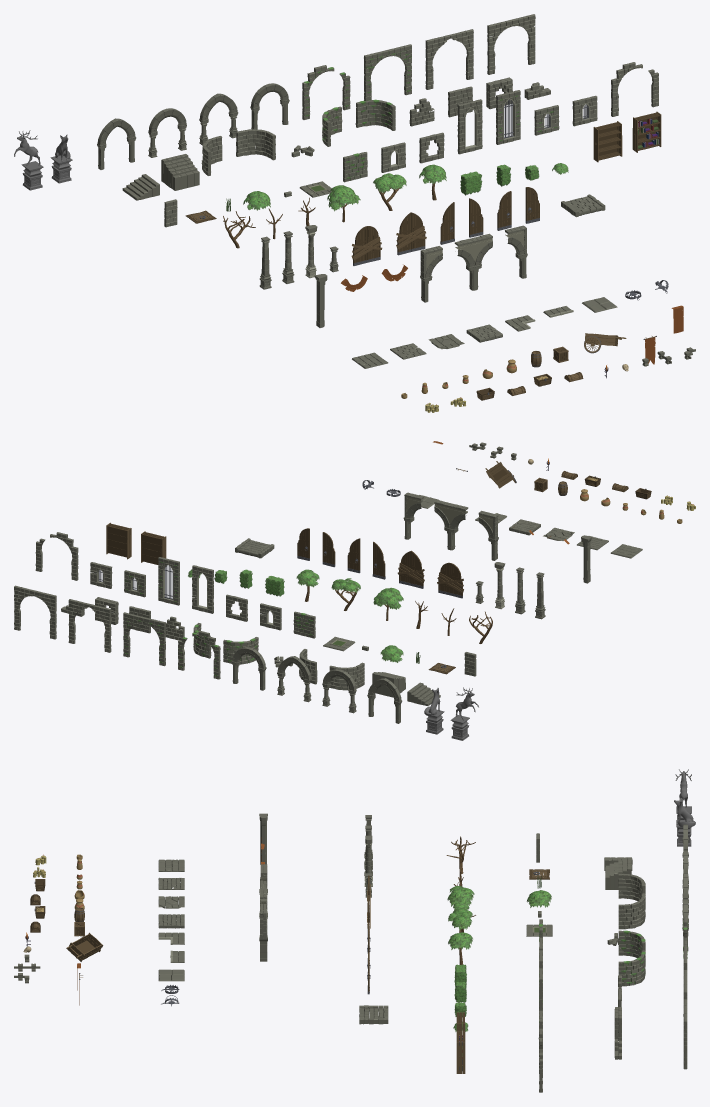
Rendered from ruins.glb.
3 views of the same model, one above another, from view 1: azimuth 30°, elevation 25°; view 2: azimuth 150°, elevation 25°; view 3: azimuth 270°, elevation 25° (orthographic). The views are drawn at different scales.
Visible parts, largest first — view 1: Window_Bars_Double_Overgrown, Wall_ArchRound, Wall_ArchGothic, Stairs_2, Wall_ArchRound_Overgrown, Support_Center, Curve_2_Overgrown, Curve_2, Bookcase_Empty, Bookcase_Full, Window_Open_Double, Doors_GothicArch_Covered (+18 smaller); view 2: Window_Bars_Double_Overgrown, Wall_ArchRound_Overgrown, Wall_ArchRound, Wall_ArchGothic, Support_Center, Bookcase_Full, Doors_GothicArch_Covered, Window_Open_Double, Doors_RoundArch_Covered, Bookcase_Empty, Statue_Stag, Wall_ArchRound_Overgrown_Broken (+18 smaller); view 3: Curve_2, Curve_2_Overgrown, Curve_1_Overgrown, Curve_1, Cart, BridgeSection, Stairs_2, Statue_Fox.
Boxes of the visible parts, x1,y1,x2,y2 form: Window_Bars_Double_Overgrown: (496,90,520,144); Wall_ArchRound: (487,14,535,74); Wall_ArchGothic: (425,29,473,89); Stairs_2: (161,154,199,190); Wall_ArchRound_Overgrown: (364,44,411,100); Support_Center: (454,233,492,290); Curve_2_Overgrown: (355,99,395,130); Curve_2: (236,129,275,160); Bookcase_Empty: (593,121,622,162); Bookcase_Full: (632,111,661,152); Window_Open_Double: (457,99,482,154); Doors_GothicArch_Covered: (396,212,426,255); Window_Bars_Double_Overgrown: (158,557,179,605); Wall_ArchRound_Overgrown: (123,612,165,666); Wall_ArchRound: (14,585,56,639); Wall_ArchGothic: (68,599,111,652); Support_Center: (434,500,468,550); Bookcase_Full: (106,522,131,559); Doors_GothicArch_Covered: (397,550,424,588); Window_Open_Double: (192,565,213,613); Doors_RoundArch_Covered: (437,562,463,598); Bookcase_Empty: (141,531,166,564); Statue_Stag: (450,687,478,740); Wall_ArchRound_Overgrown_Broken: (178,631,220,679); Curve_2: (618,893,645,929); Curve_2_Overgrown: (618,950,645,986); Curve_1_Overgrown: (618,930,645,965); Curve_1: (618,873,645,908); Cart: (66,932,103,961); BridgeSection: (359,1005,388,1024); Stairs_2: (605,857,631,889); Statue_Fox: (674,798,695,846).
Bounding box in the file's own units: 49.07 × 6.94 × 51.9.
Materials: 28 (3 with a texture image).
